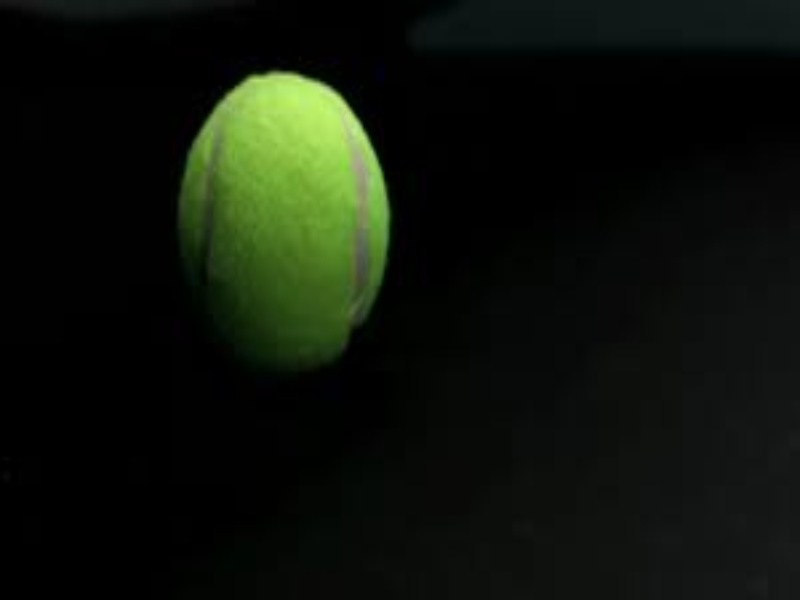tennis ball: (172, 51, 398, 395)
